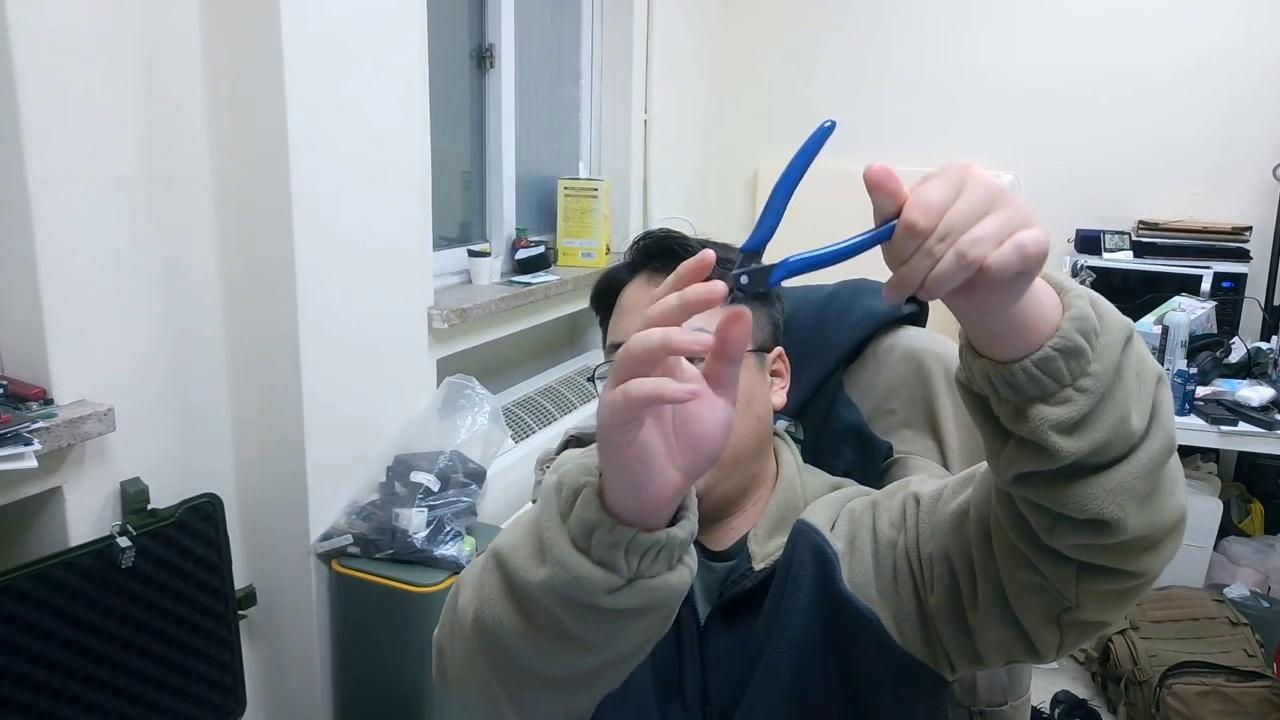blue_pliers: (725, 117, 904, 304)
